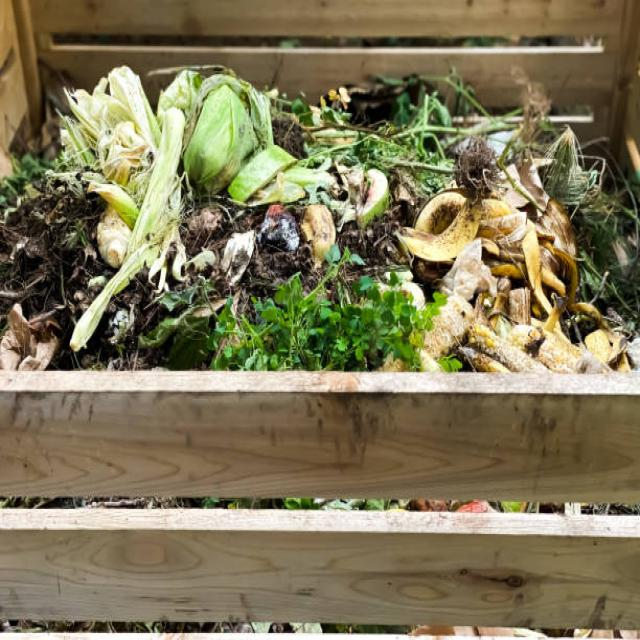trash: (29, 81, 595, 355)
